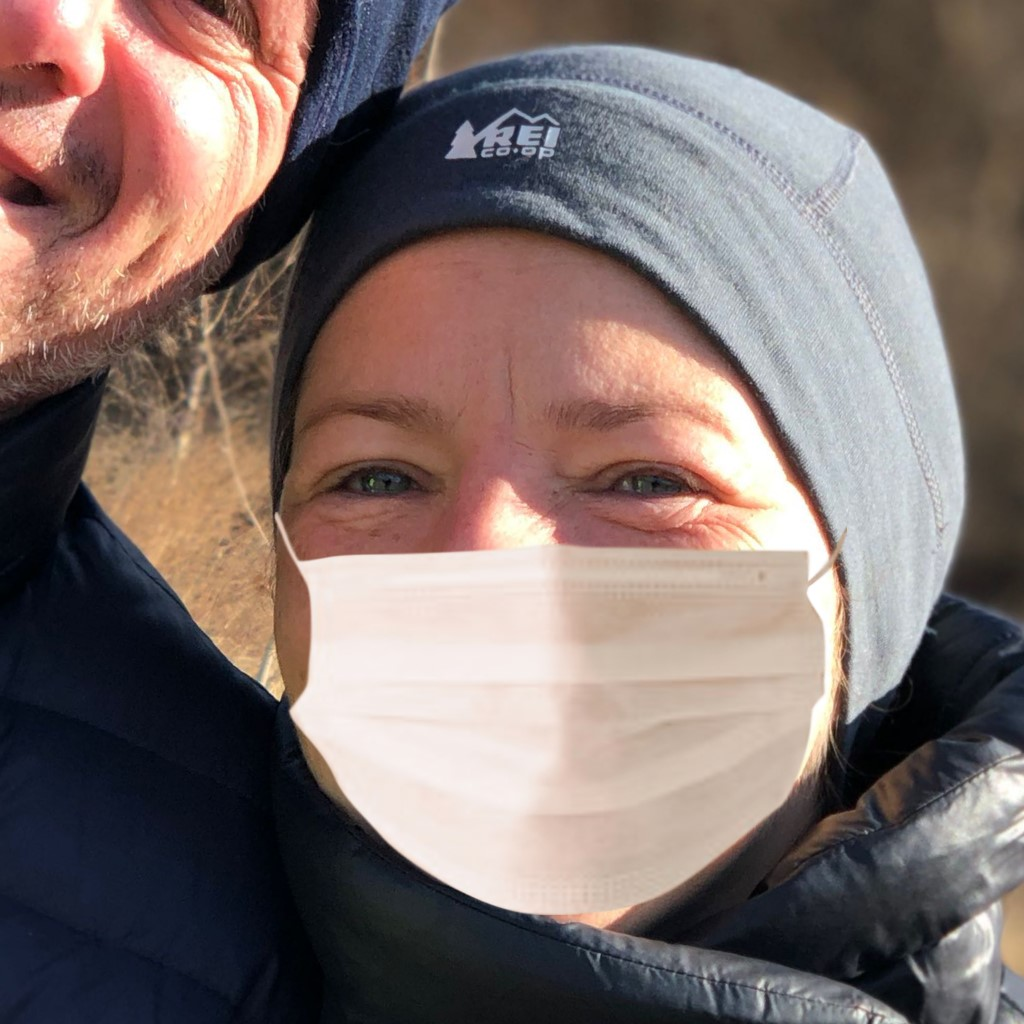con_mascara: (288, 161, 861, 922)
